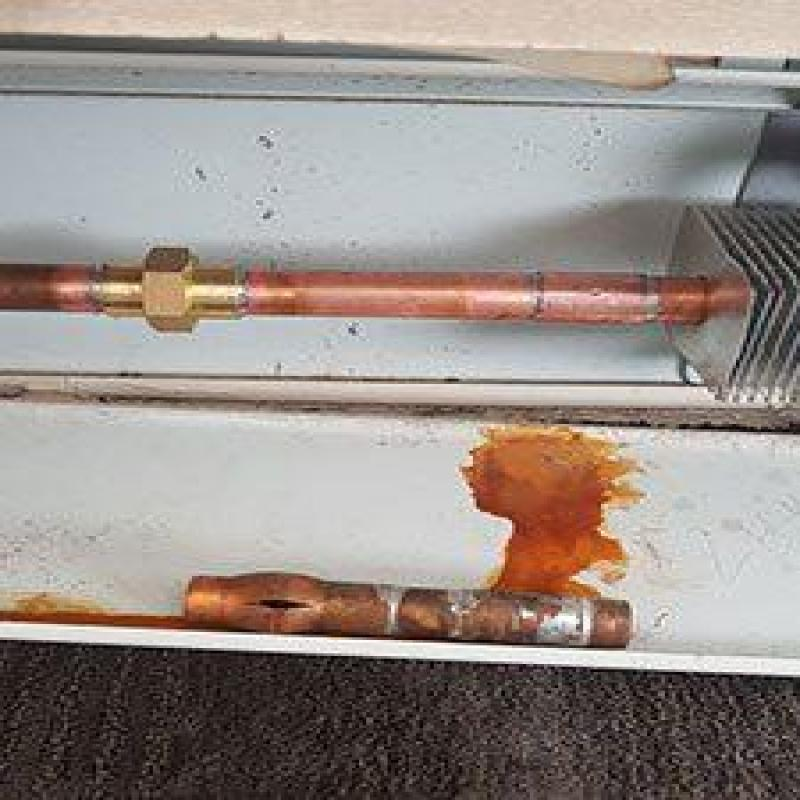Fracture: (240, 590, 310, 622)
